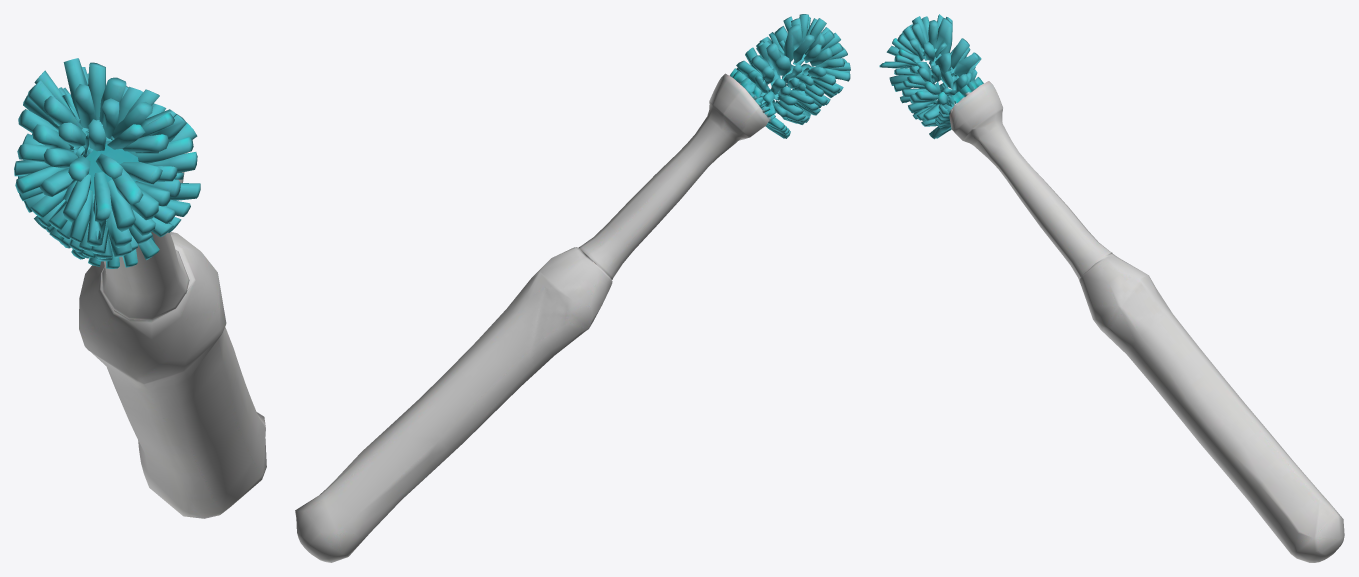
3 renders of one model, left to right at view 1: azimuth 30°, elevation 25°; view 2: azimuth 150°, elevation 25°; view 3: azimuth 270°, elevation 25°, orthographic. The views are drawn at different scales.
Bounding box in the file's own units: 0.7896 × 0.9995 × 0.9995.
Materials: 1 (1 with a texture image).
